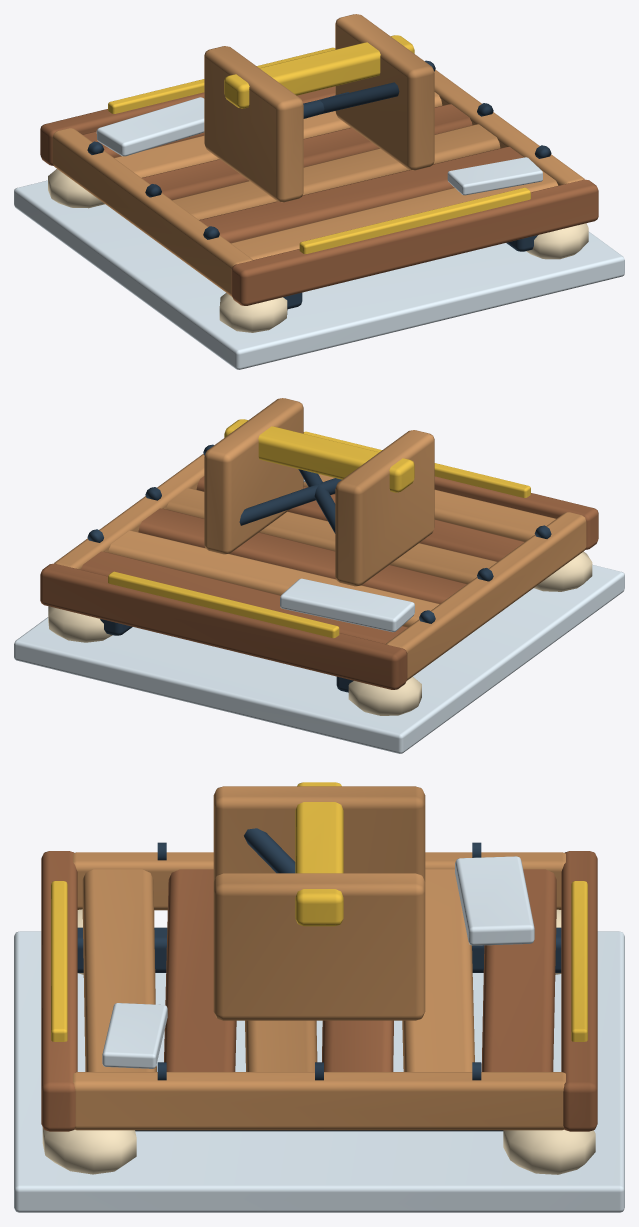
Rendered from pad_build.glb.
3 renders of one model, top to bottom at view 1: azimuth 30°, elevation 25°; view 2: azimuth 150°, elevation 25°; view 3: azimuth 270°, elevation 25°, orthographic. The views are drawn at different scales.
Visible parts, largest first — view 1: pad_build; view 2: pad_build; view 3: pad_build.
Part boxes in pixels (x1,y1,x2,y2): pad_build: (14,14,624,369); pad_build: (14,398,624,753); pad_build: (14,782,624,1212).
Size of the model in its own units: 2.02 by 0.915 by 2.02.
